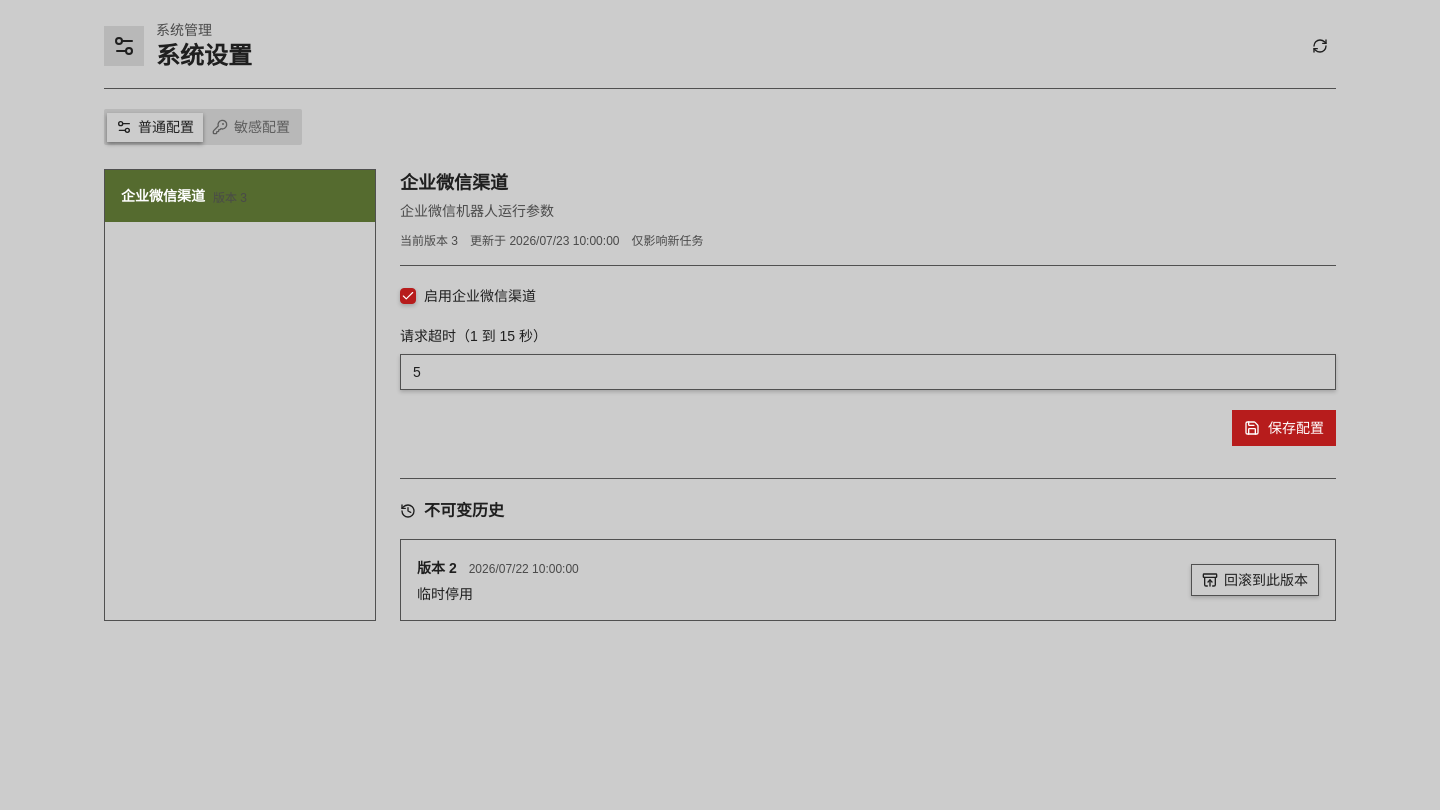
Test: 系统设置页面 › 保存期间防重复，失败后表单和变更原因保持不变
Replace the text in the number field labelled "请求超时（1 到 15 秒）" with "8" at [868, 372], box [400,354,1336,390]
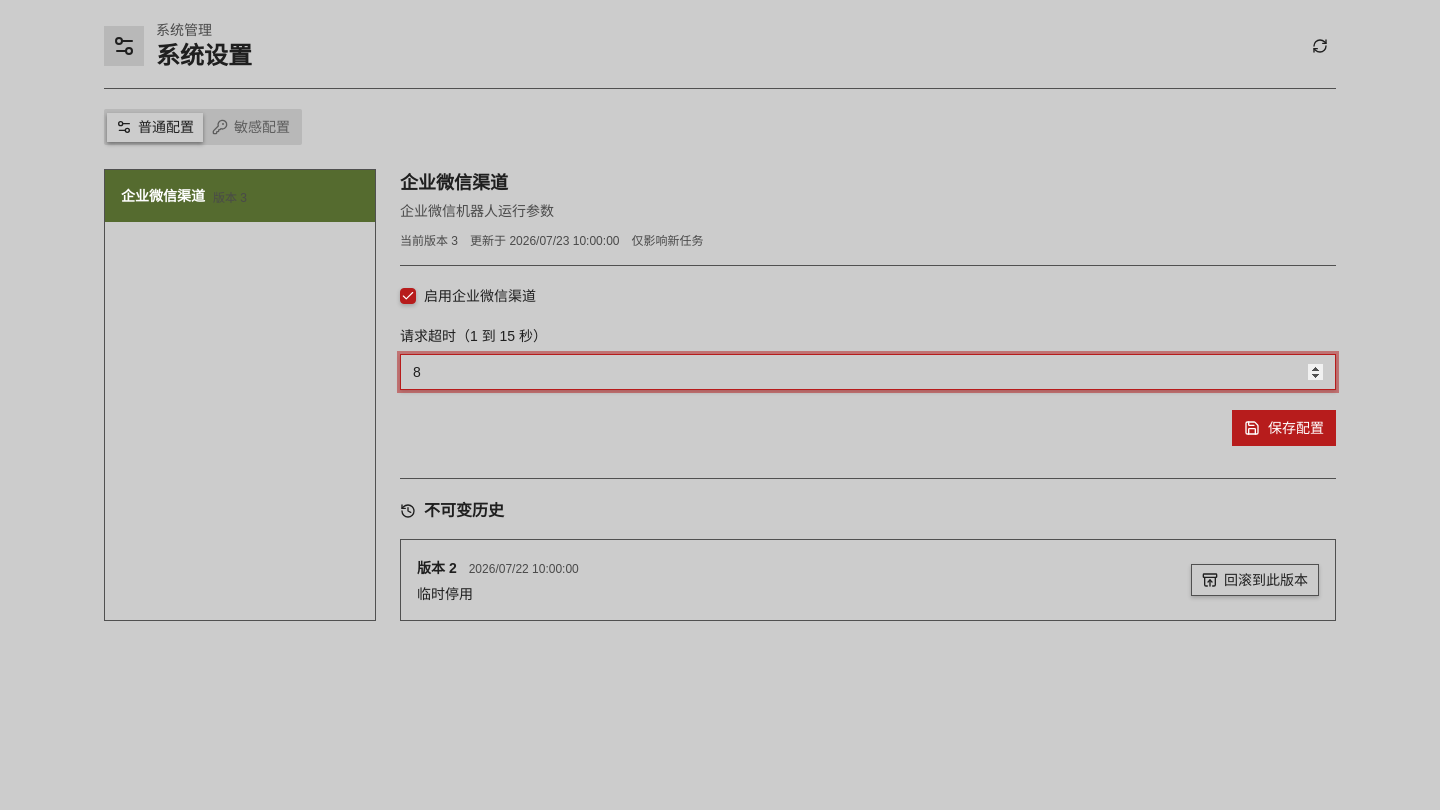
Click the button "保存配置" at [1284, 428], box [1232,410,1336,446]
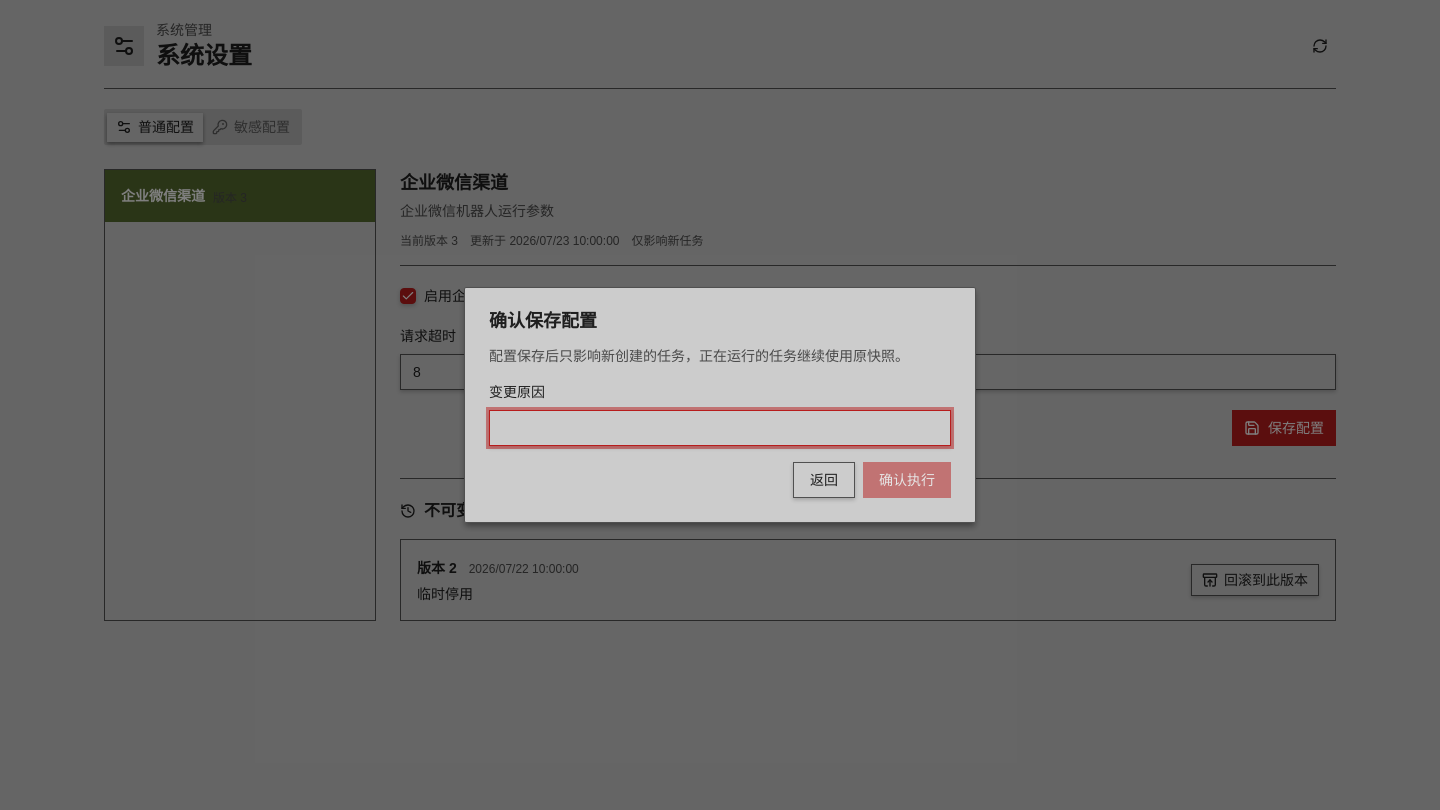
Type "调整连接超时" into the field labelled "变更原因" at [720, 428], box [489,410,951,446]
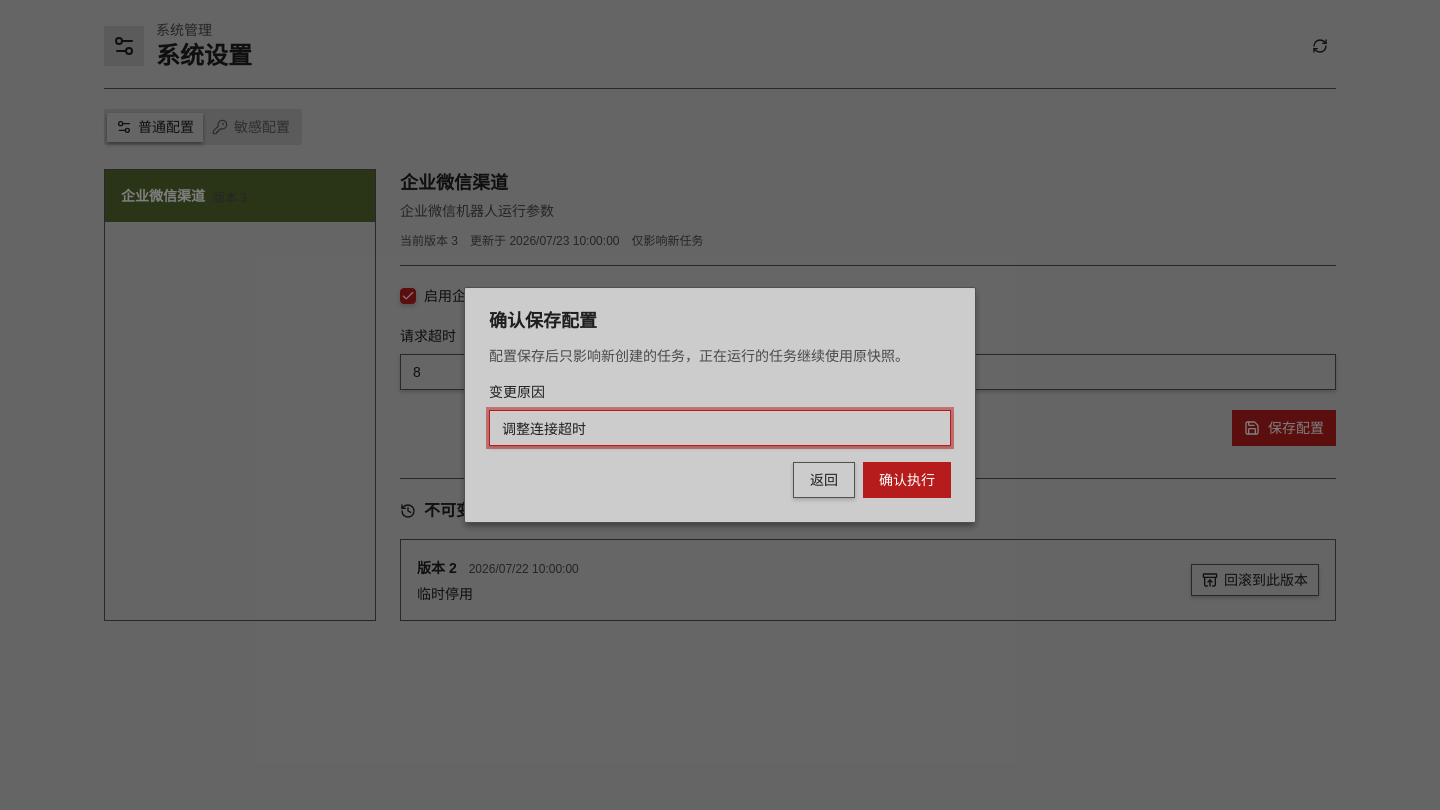
Click the button "确认执行" at [907, 480], box [863,462,951,498]
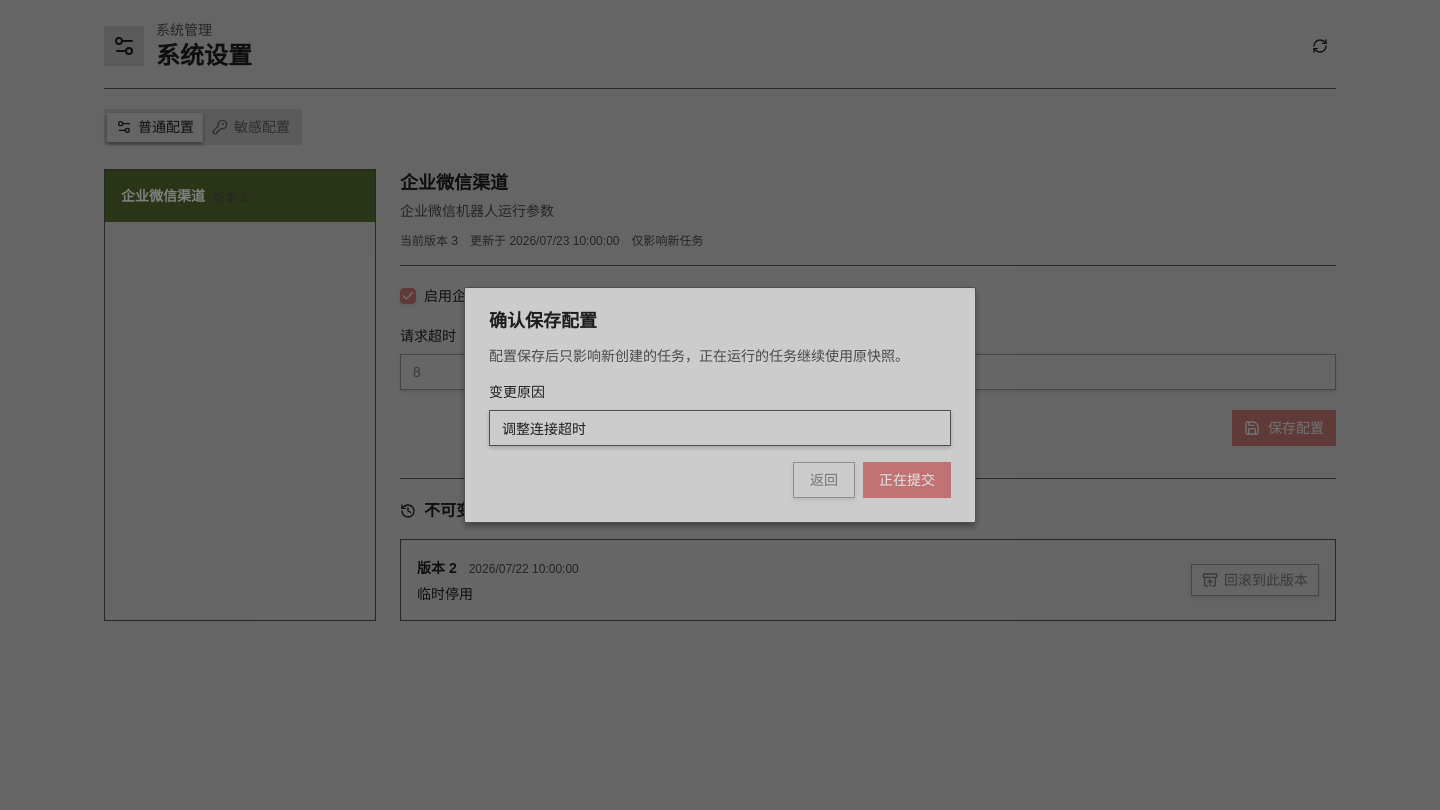
Check: the button named "确认执行" is disabled
Click the button named "确认执行" at [907, 480], box [863,462,951,498]
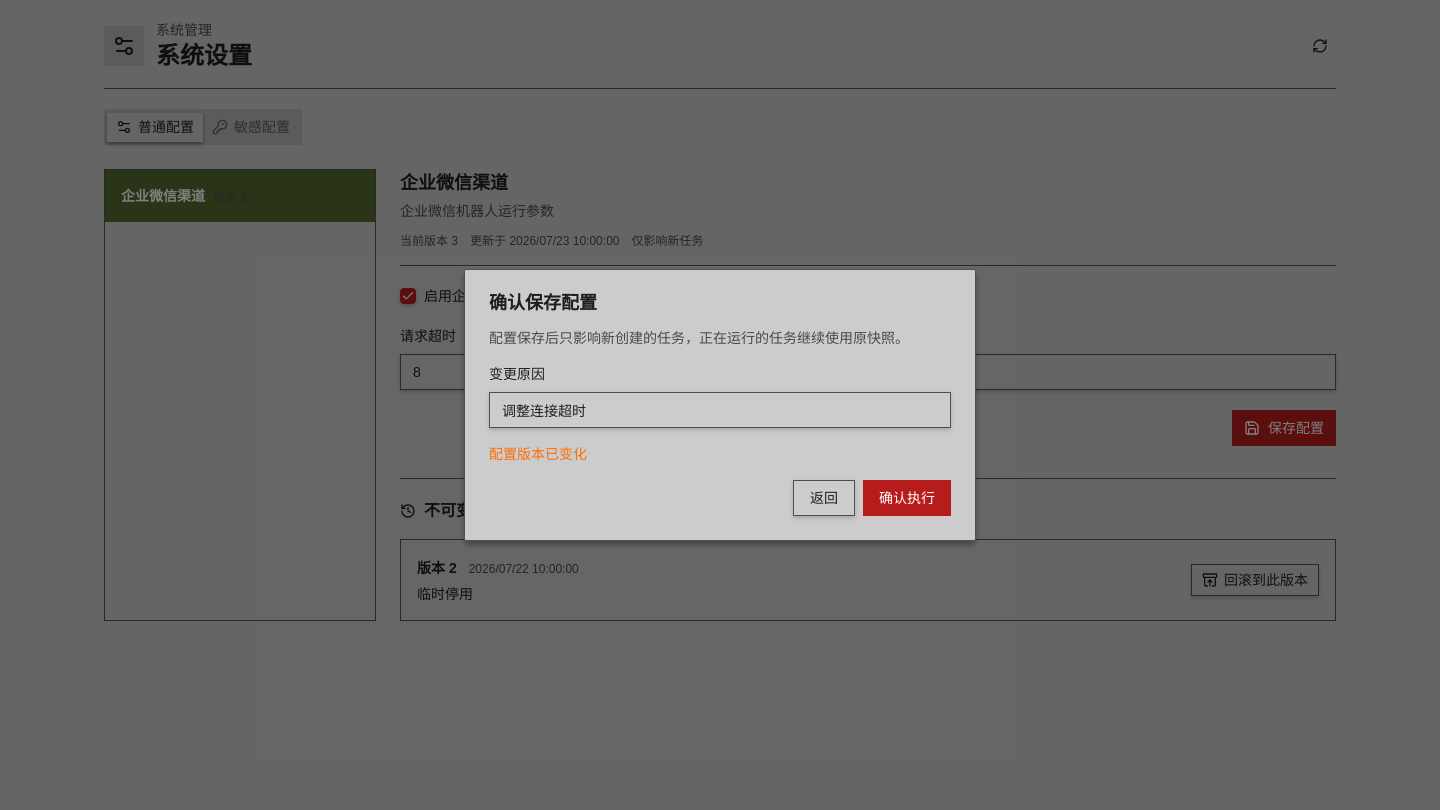
Check: the text "配置版本已变化" is shown, box [489,446,587,462]
